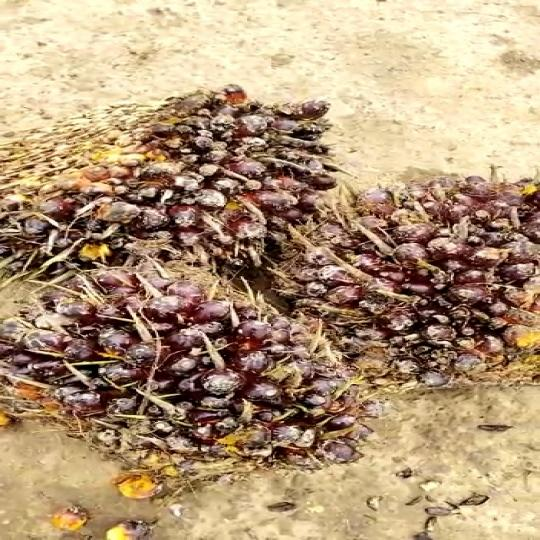kurang masak: (0, 241, 390, 501), (0, 77, 316, 304), (266, 152, 540, 389)
